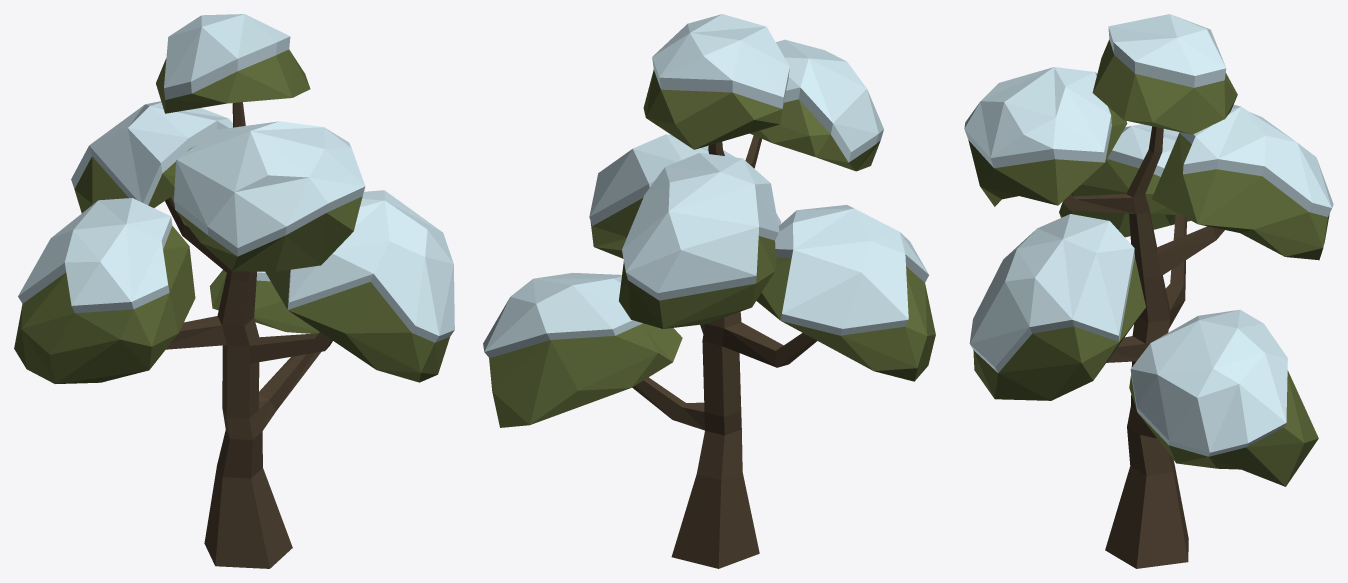
The model's file is SM_Env_Tree_012_Snow.gltf.
The picture shows the model from 3 angles, left to right: view 1: azimuth 30°, elevation 25°; view 2: azimuth 150°, elevation 25°; view 3: azimuth 270°, elevation 25°; orthographic projection.
Visible parts, largest first — view 1: SM_Env_Tree_012_Snow; view 2: SM_Env_Tree_012_Snow; view 3: SM_Env_Tree_012_Snow.
Part boxes in pixels (<box>): SM_Env_Tree_012_Snow: <box>14,14,454,568</box>; SM_Env_Tree_012_Snow: <box>483,14,935,568</box>; SM_Env_Tree_012_Snow: <box>964,14,1333,568</box>.
Bounding box in the file's own units: 4.13 × 5.16 × 3.32.
1 material, 1 textured.
